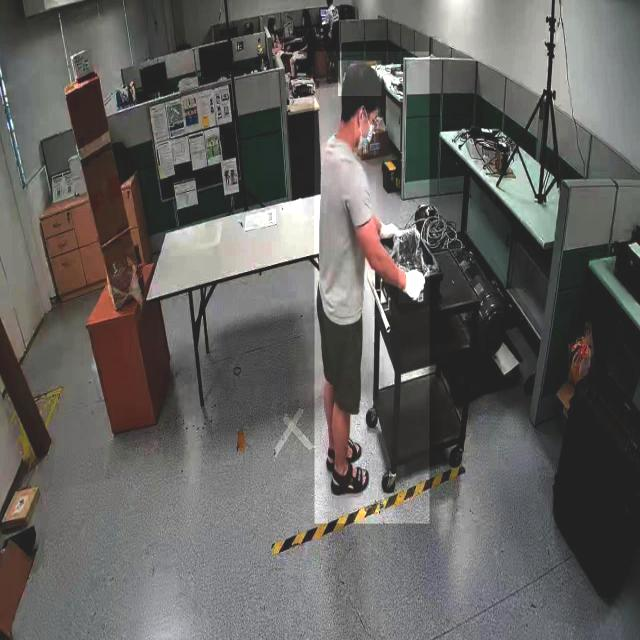face_mask: (354, 110, 378, 155)
hand_glove: (398, 253, 426, 303)
head_nohelmet: (338, 60, 382, 97), (302, 9, 310, 18), (268, 15, 274, 23)
person: (314, 52, 430, 524)
